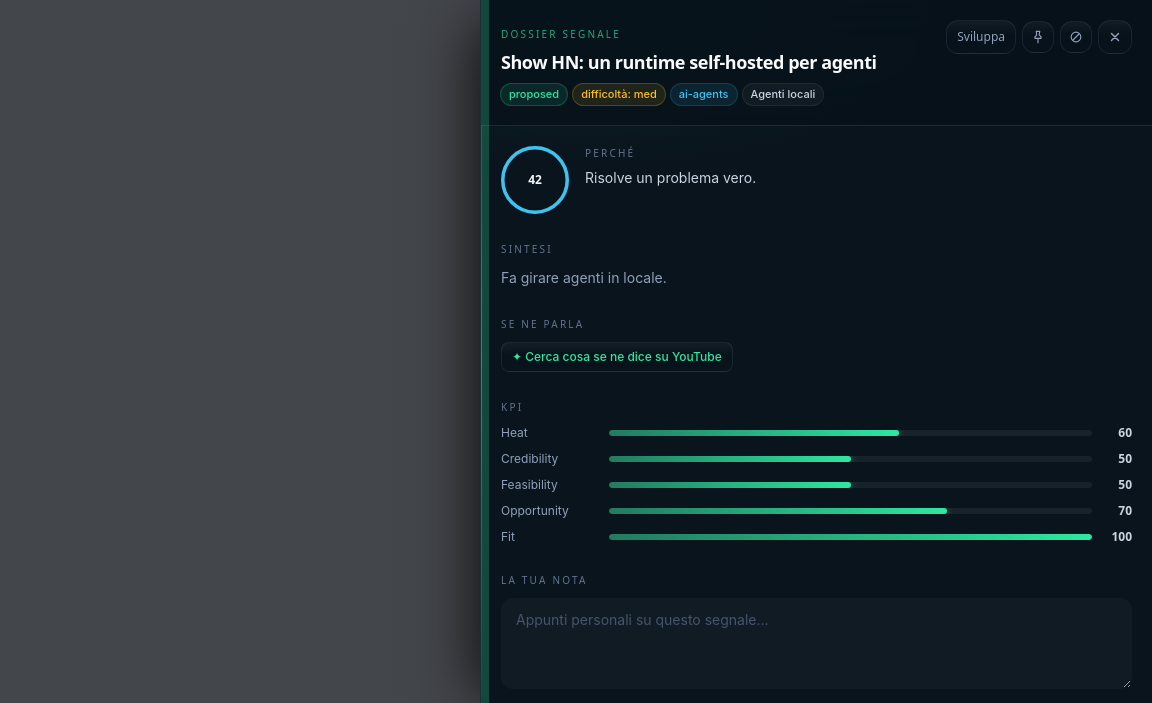
IdeaDetail › il pin cambia stato subito, senza aspettare il server
Click the button named "pinna in cima".
click(1038, 37)  # box [1022,21,1054,53]
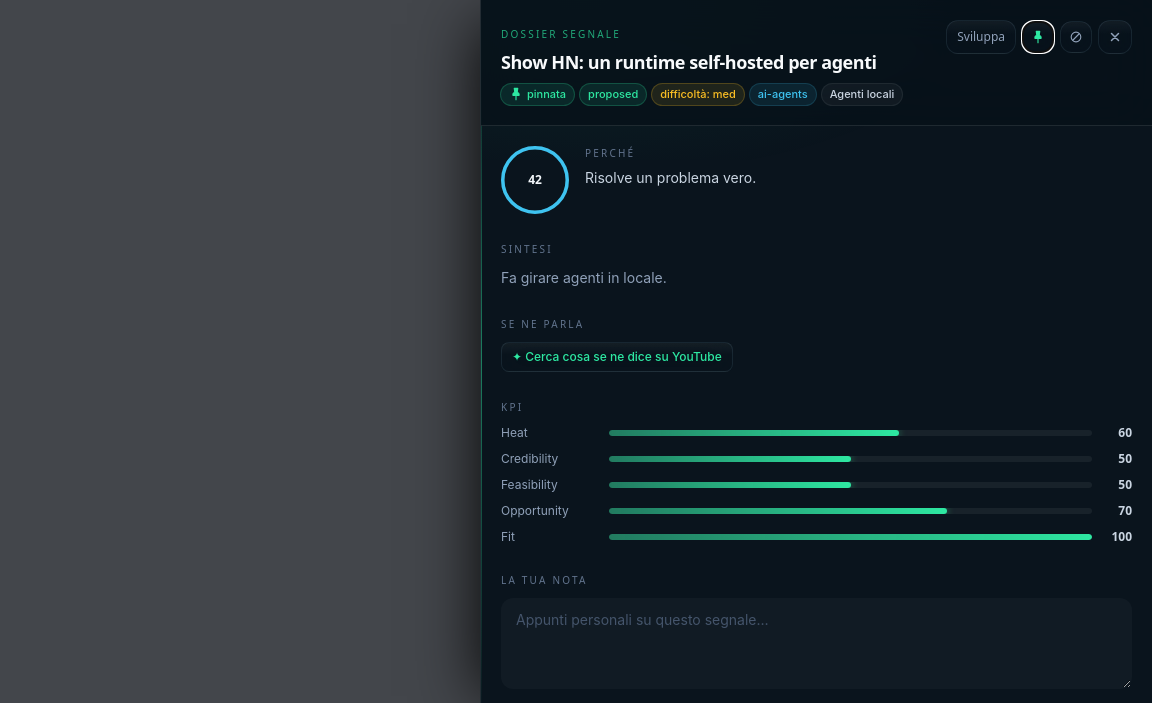
Now the button named "togli il pin" is shown, box [1022,21,1054,53]
